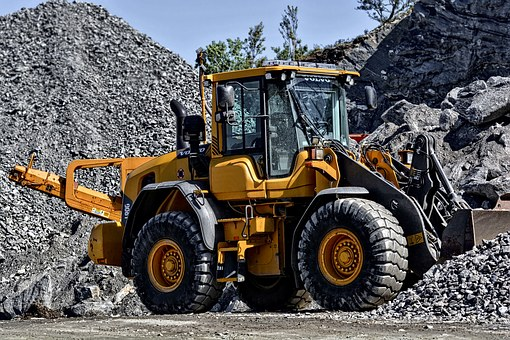excavator: (5, 60, 510, 316)
